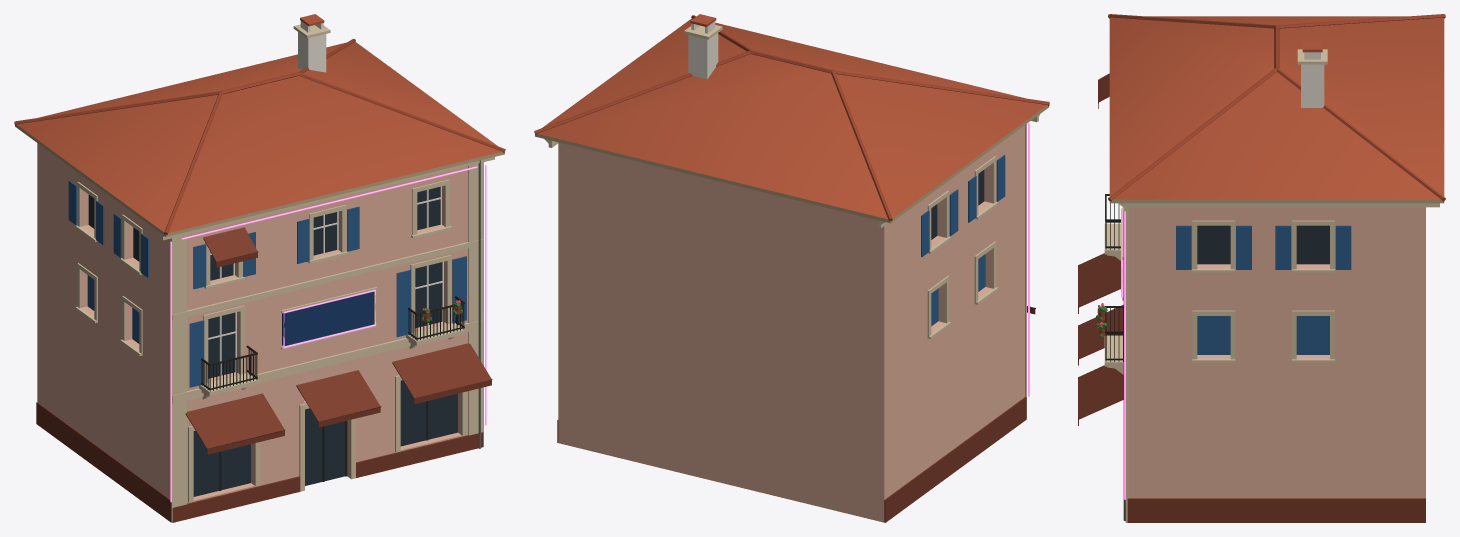
The picture shows the model from 3 angles, left to right: view 1: azimuth 30°, elevation 25°; view 2: azimuth 150°, elevation 25°; view 3: azimuth 270°, elevation 25°; orthographic projection. The views are drawn at different scales.
Parts seen in each view (by area): view 1: social.lod0; view 2: social.lod0; view 3: social.lod0.
Boxes of the visible parts, x1,y1,x2,y2 form: social.lod0: (14,14,505,522); social.lod0: (534,14,1049,522); social.lod0: (1078,14,1445,522).
Size of the model in its own units: 13.2 by 14.31 by 11.1.
